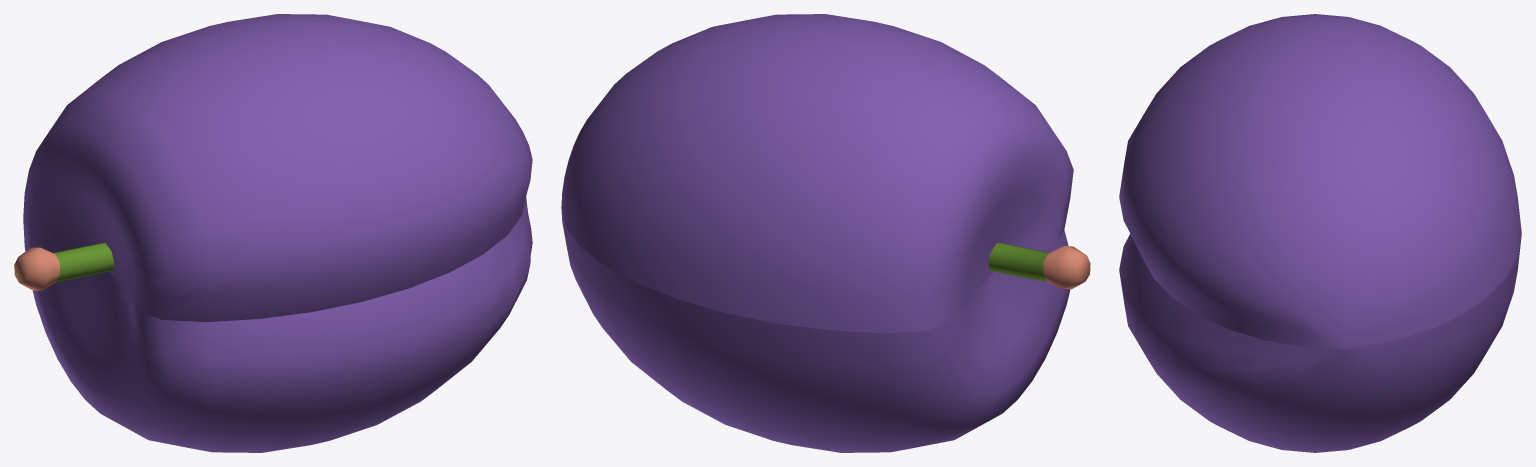
The model's file is Fruit_Plum_Sliced.fbx.
3 renders of one model, left to right at view 1: azimuth 30°, elevation 25°; view 2: azimuth 150°, elevation 25°; view 3: azimuth 270°, elevation 25°, orthographic. The views are drawn at different scales.
Parts seen in each view (by area): view 1: Plum_Top, Plum_Bottom; view 2: Plum_Top, Plum_Bottom; view 3: Plum_Top, Plum_Bottom.
Part boxes in pixels (x1,y1,x2,y2): Plum_Top: (14,14,532,322); Plum_Bottom: (23,197,532,452); Plum_Top: (561,14,1090,333); Plum_Bottom: (561,208,1070,452); Plum_Top: (1119,14,1521,349); Plum_Bottom: (1119,234,1521,452).
Size of the model in its own units: 116 by 86.93 by 85.
